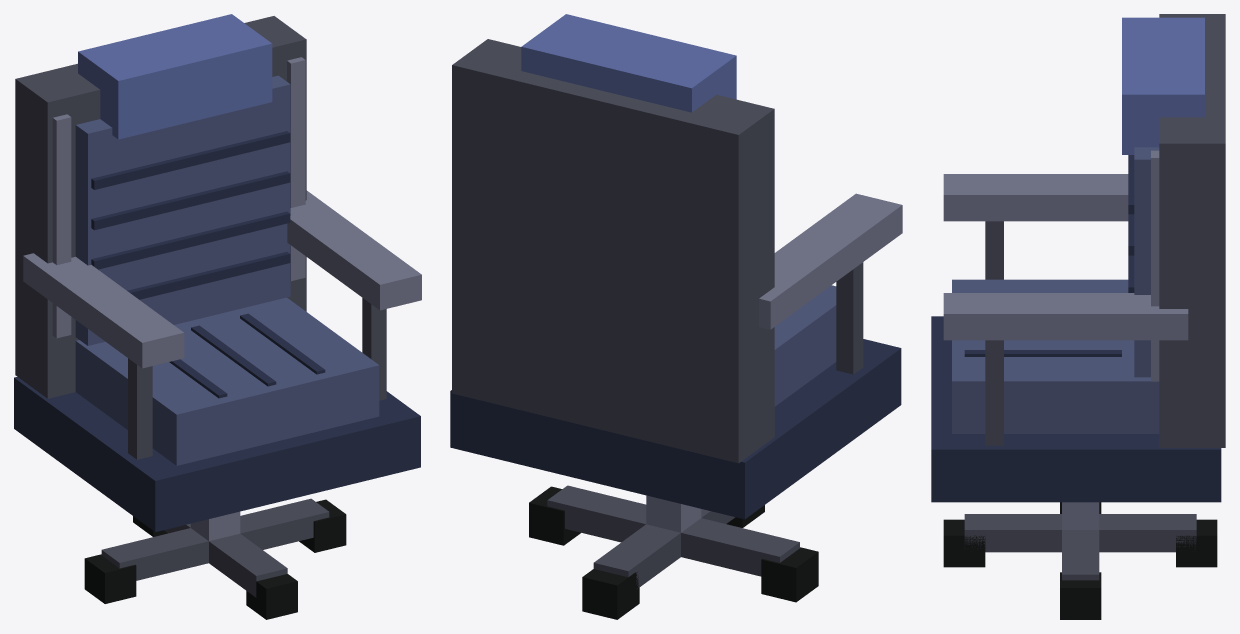
File: CMU3DComfyChairBlue.glb
3 renders of one model, left to right at view 1: azimuth 30°, elevation 25°; view 2: azimuth 150°, elevation 25°; view 3: azimuth 270°, elevation 25°, orthographic. The views are drawn at different scales.
Visible parts, largest first — view 1: back cushion, seat cushion, seat base, back shell, headrest, upholstery rib (×4), left arm pad, right arm pad, back edge piping (×2), caster cross X, caster wheel (×3), arm front stanchion (×2) (+3 smaller); view 2: back shell, seat base, headrest, left arm pad, caster cross X, caster wheel (×3), seat cushion, caster cross Y, arm front stanchion, chrome swivel stem; view 3: back shell, seat base, seat cushion, right arm pad, headrest, left arm pad, caster cross Y, caster wheel (×3), back cushion, arm front stanchion (×2), caster cross X, back edge piping (+3 smaller).
Part boxes in pixels (x1,y1,x2,y2): back cushion: [75, 75, 290, 345]; seat cushion: [75, 297, 379, 465]; seat base: [14, 377, 420, 531]; back shell: [15, 16, 306, 398]; headrest: [78, 14, 272, 139]; upholstery rib (×4): [91, 131, 290, 299]; left arm pad: [23, 253, 184, 368]; right arm pad: [287, 190, 421, 310]; back edge piping (×2): [52, 57, 305, 338]; caster cross X: [101, 498, 329, 580]; caster wheel (×3): [84, 499, 346, 619]; arm front stanchion (×2): [128, 298, 386, 459]; back shell: [452, 39, 774, 463]; seat base: [450, 339, 901, 519]; headrest: [521, 14, 736, 112]; left arm pad: [759, 193, 902, 329]; caster cross X: [547, 485, 799, 576]; caster wheel (×3): [529, 486, 818, 619]; seat cushion: [774, 285, 836, 406]; caster cross Y: [593, 509, 735, 588]; arm front stanchion: [836, 262, 863, 374]; chrome swivel stem: [646, 495, 701, 532]; back shell: [1159, 14, 1225, 447]; seat base: [931, 316, 1221, 502]; seat cushion: [952, 279, 1159, 433]; right arm pad: [943, 293, 1188, 340]; headrest: [1122, 17, 1204, 154]; left arm pad: [943, 174, 1128, 221]; caster cross Y: [964, 514, 1196, 552]; caster wheel (×3): [943, 519, 1217, 619]; back cushion: [1134, 147, 1159, 377]; arm front stanchion (×2): [985, 221, 1003, 445]; caster cross X: [1062, 530, 1099, 580]; back edge piping: [1151, 150, 1159, 381].
Bounding box in the file's own units: 0.8 × 1.34 × 0.71.
